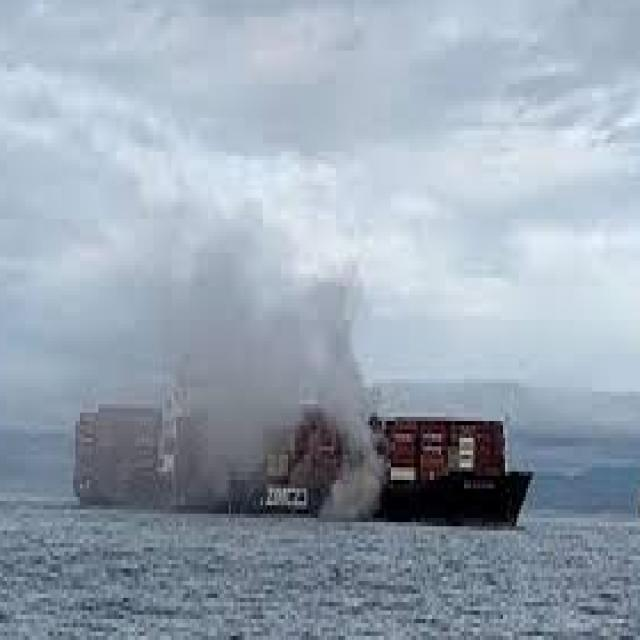cargoship: (76, 360, 523, 526)
